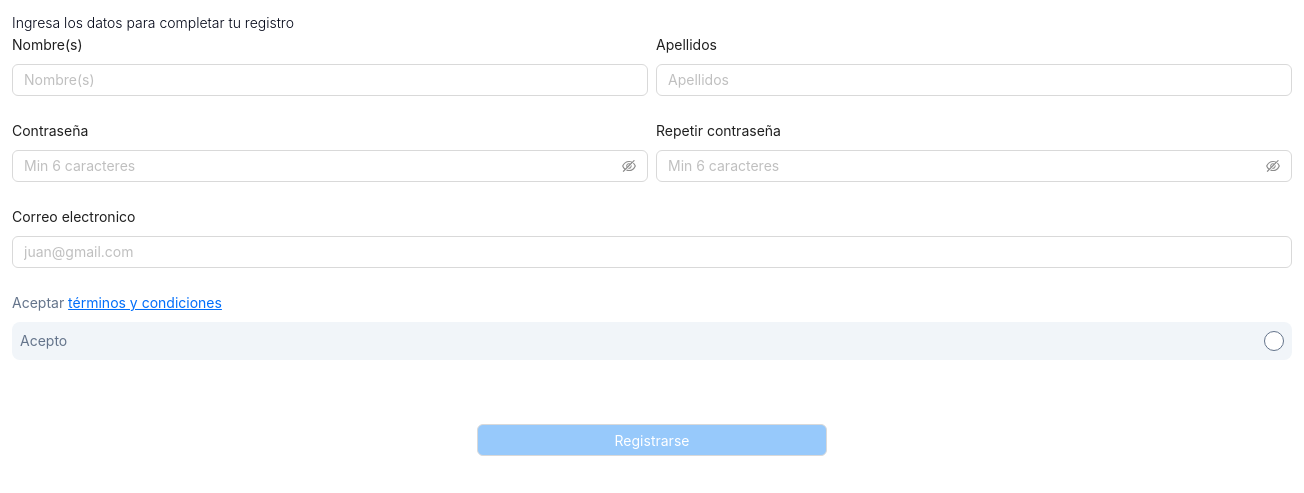
Scenario: Resgiter Validation Test › should show an error when the password and repeat password do not match
The width and height of the screenshot is (1304, 493).
Type "123456" into the password field with test id "password-input" at (321, 166), box [24, 155, 618, 177]
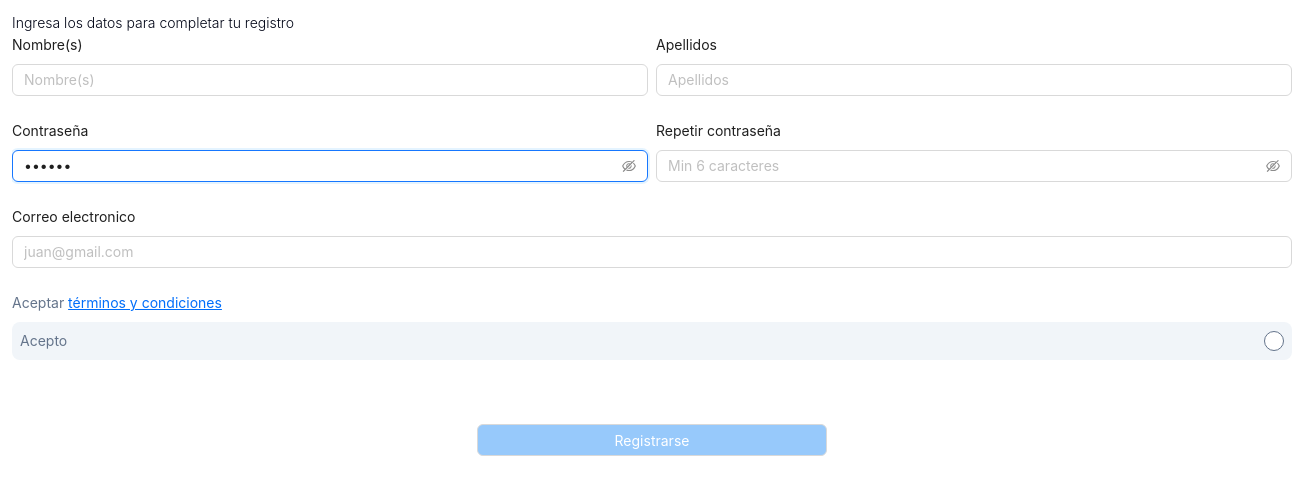
Type "12345" into the password field with test id "repeat-password-input" at (965, 166), box [668, 155, 1262, 177]
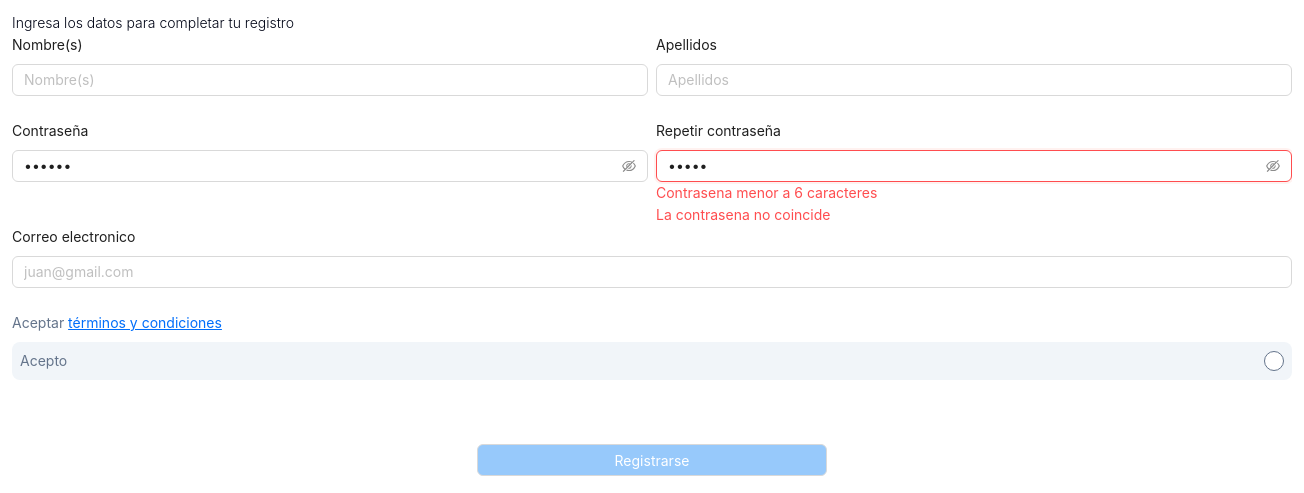
Result: the text "La contrasena no coincide" is shown at [656, 206, 830, 223]
